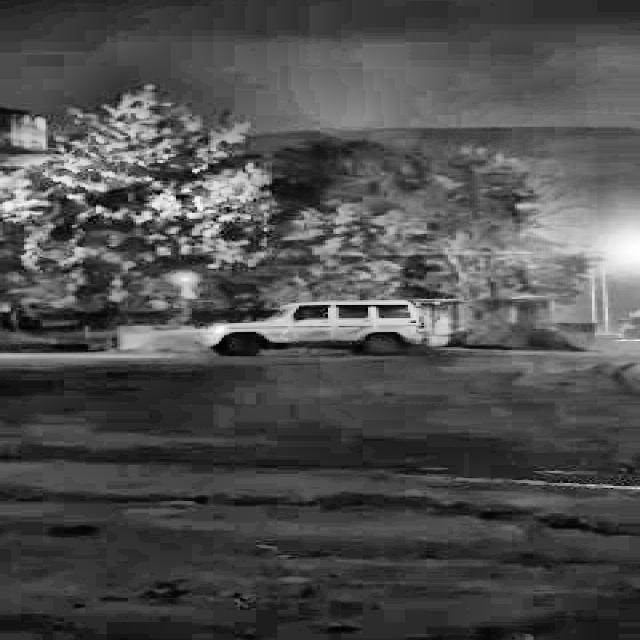light_vehicle: (181, 299, 431, 356)
